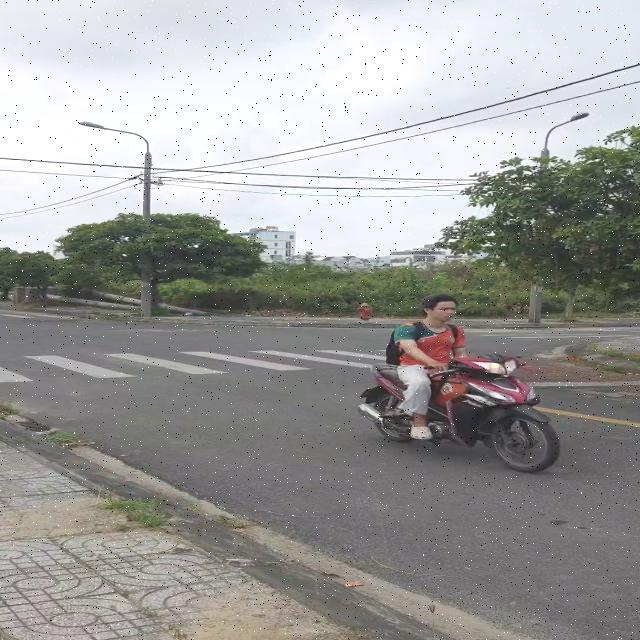no_helmet: (422, 294, 460, 337)
